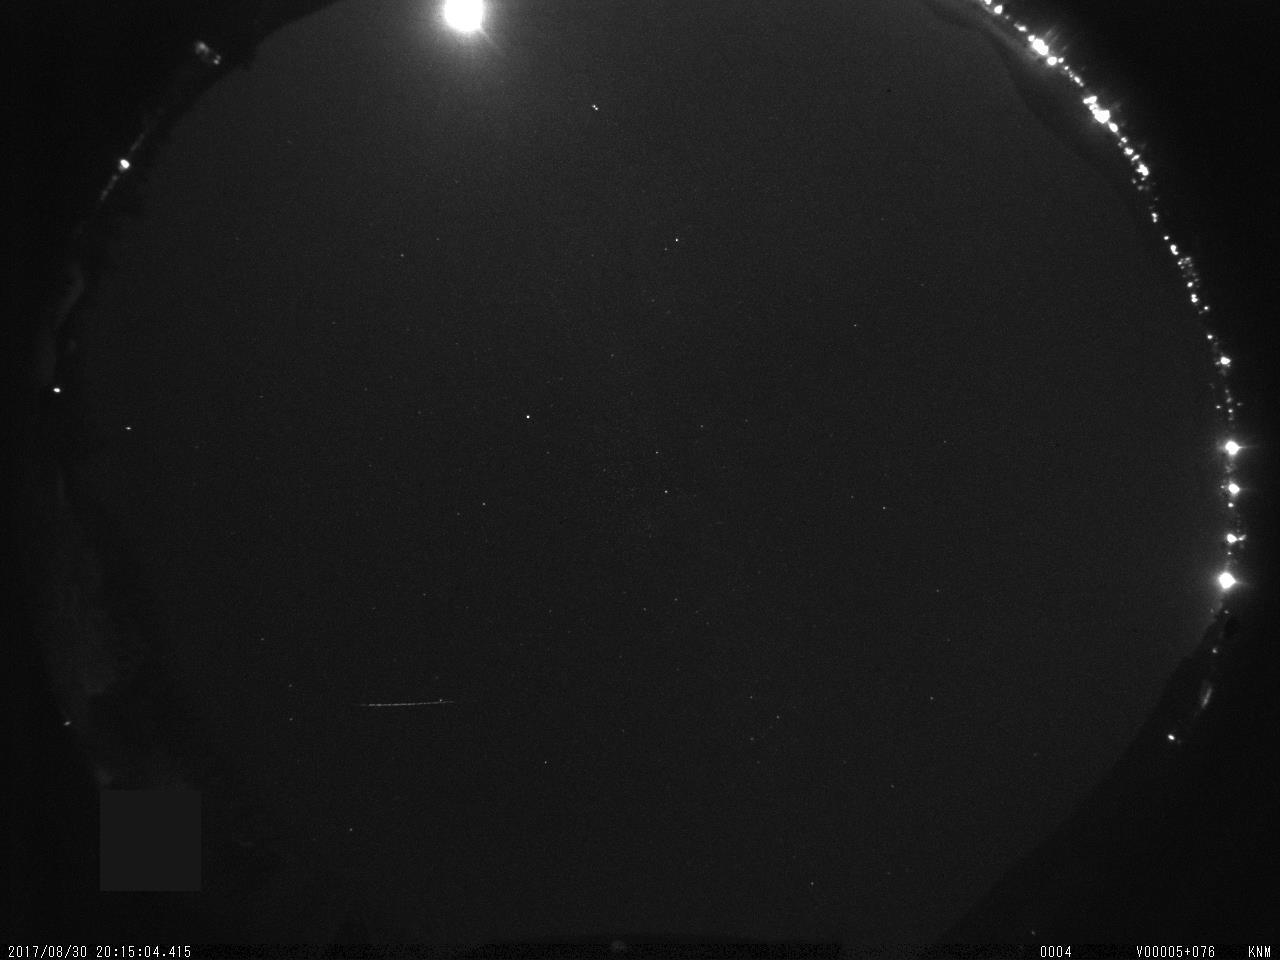Meteor: (358, 689, 468, 711)
